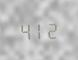four: (18, 20, 30, 40)
one: (32, 20, 44, 39)
two: (45, 19, 57, 39)
